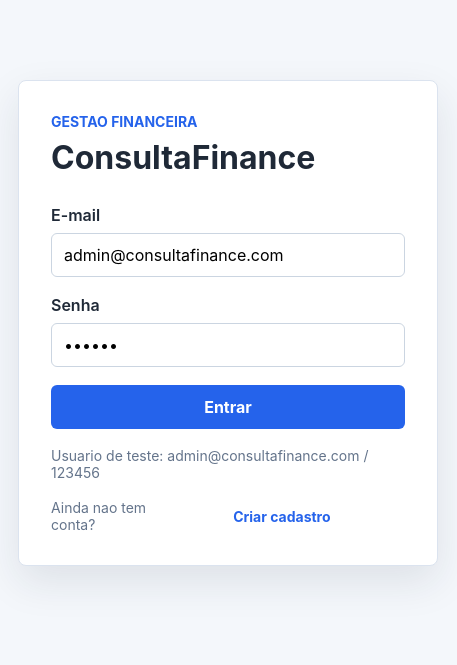
Test: opens register page
Click the button "Criar cadastro": click(282, 516) [159, 508, 405, 524]
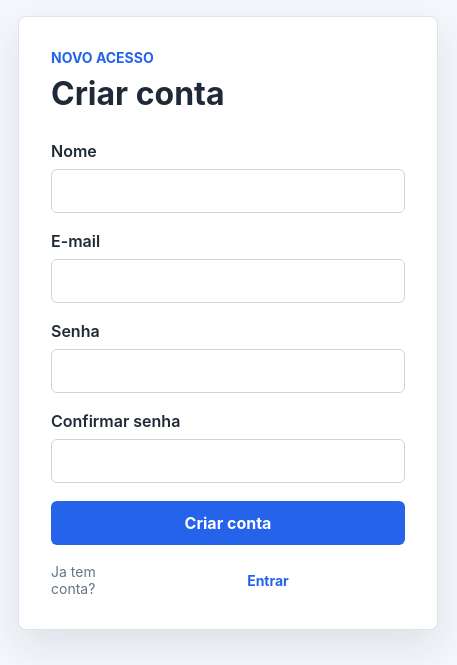
Now the heading "Criar conta" is shown, box [51, 74, 224, 113]
